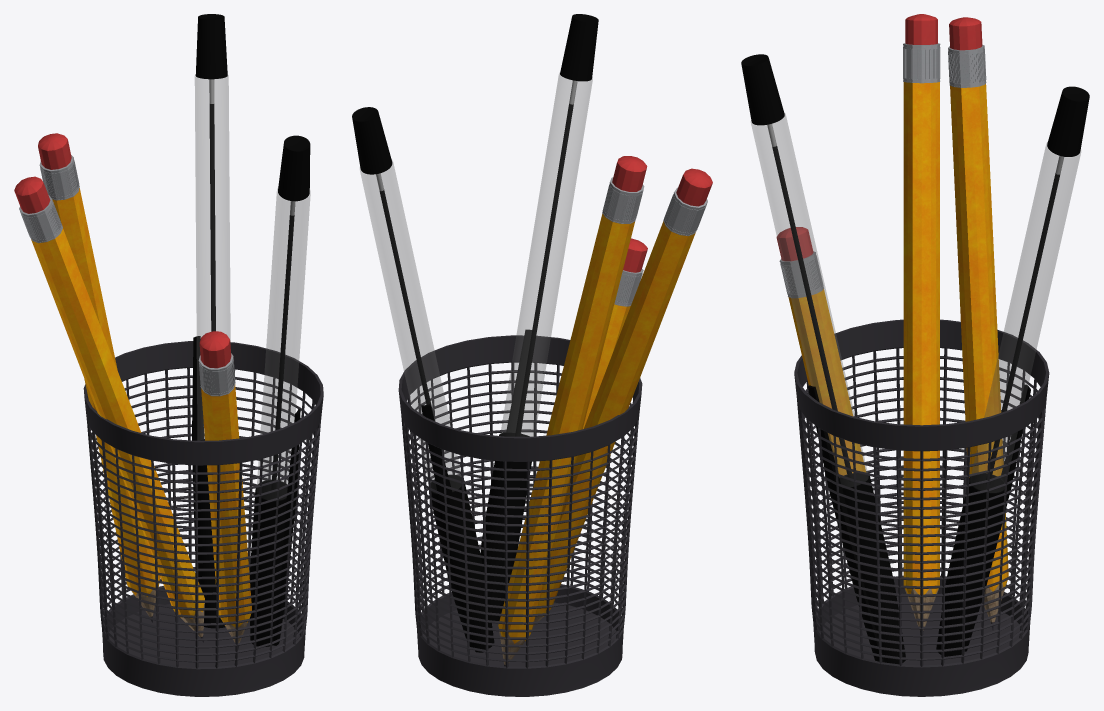
3 views of the same model, side by side, from view 1: azimuth 30°, elevation 25°; view 2: azimuth 150°, elevation 25°; view 3: azimuth 270°, elevation 25° (orthographic). The views are drawn at different scales.
Visible parts, largest first — view 1: PenHolder_PenHolder_0, Pencils_Shaft_0, BlackBallPen_BlackBallpenShaft_0, BlackBallPen_BlackCover_0, BlackBallPen_BlackCap_0, Pencils_Metal_0, Pencils_Eraser_0, BlackBallPen_BlackInk_0, Pencils_Wood_0; view 2: PenHolder_PenHolder_0, Pencils_Shaft_0, BlackBallPen_BlackBallpenShaft_0, BlackBallPen_BlackCover_0, BlackBallPen_BlackCap_0, Pencils_Metal_0, BlackBallPen_BlackInk_0, Pencils_Eraser_0; view 3: PenHolder_PenHolder_0, Pencils_Shaft_0, BlackBallPen_BlackBallpenShaft_0, BlackBallPen_BlackCover_0, BlackBallPen_BlackCap_0, Pencils_Metal_0, BlackBallPen_BlackInk_0, Pencils_Eraser_0, Pencils_Wood_0.
Part boxes in pixels (x1,y1,x2,y2): PenHolder_PenHolder_0: (83, 341, 323, 696); Pencils_Shaft_0: (31, 188, 251, 627); BlackBallPen_BlackBallpenShaft_0: (195, 75, 310, 499); BlackBallPen_BlackCover_0: (192, 336, 300, 646); BlackBallPen_BlackCap_0: (195, 14, 310, 201); Pencils_Metal_0: (19, 155, 235, 396); Pencils_Eraser_0: (14, 133, 231, 368); BlackBallPen_BlackInk_0: (209, 104, 294, 490); Pencils_Wood_0: (131, 590, 247, 643); PenHolder_PenHolder_0: (398, 335, 642, 696); Pencils_Shaft_0: (498, 214, 695, 643); BlackBallPen_BlackBallpenShaft_0: (360, 73, 592, 492); BlackBallPen_BlackCover_0: (421, 329, 532, 652); BlackBallPen_BlackCap_0: (352, 14, 598, 174); Pencils_Metal_0: (602, 177, 707, 306); BlackBallPen_BlackInk_0: (379, 104, 573, 436); Pencils_Eraser_0: (612, 156, 712, 272); PenHolder_PenHolder_0: (794, 319, 1049, 696); Pencils_Shaft_0: (788, 82, 1008, 597); BlackBallPen_BlackBallpenShaft_0: (751, 113, 1080, 492); BlackBallPen_BlackCover_0: (808, 384, 1030, 664); BlackBallPen_BlackCap_0: (741, 54, 1089, 156); Pencils_Metal_0: (779, 43, 986, 298); BlackBallPen_BlackInk_0: (772, 146, 1060, 484); Pencils_Eraser_0: (776, 14, 982, 261); Pencils_Wood_0: (904, 582, 1006, 630).
Size of the model in its own units: 0.1028 by 0.1913 by 0.1004.
Materials: 12 (12 with a texture image).
